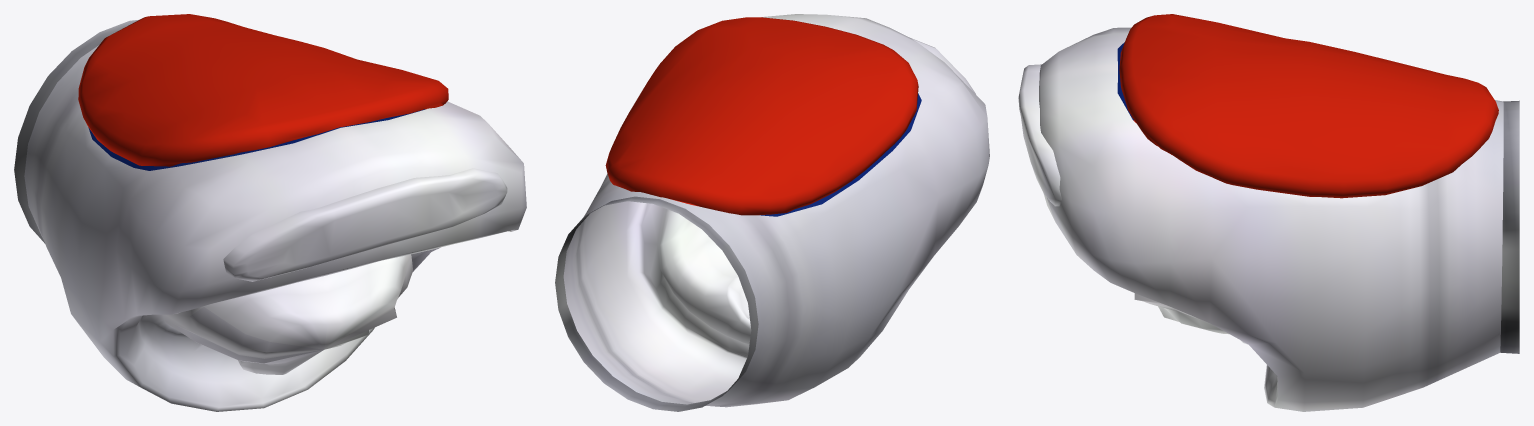
Rendered from main.obj.
The picture shows the model from 3 angles, left to right: view 1: azimuth 30°, elevation 25°; view 2: azimuth 150°, elevation 25°; view 3: azimuth 270°, elevation 25°; orthographic projection. The views are drawn at different scales.
Parts seen in each view (by area): view 1: Main_Chest.014; view 2: Main_Chest.014; view 3: Main_Chest.014.
Boxes of the visible parts, x1,y1,x2,y2 form: Main_Chest.014: [14, 14, 526, 411]; Main_Chest.014: [555, 14, 989, 411]; Main_Chest.014: [1018, 14, 1519, 411].
Size of the model in its own units: 0.6829 by 0.6323 by 0.8446.
